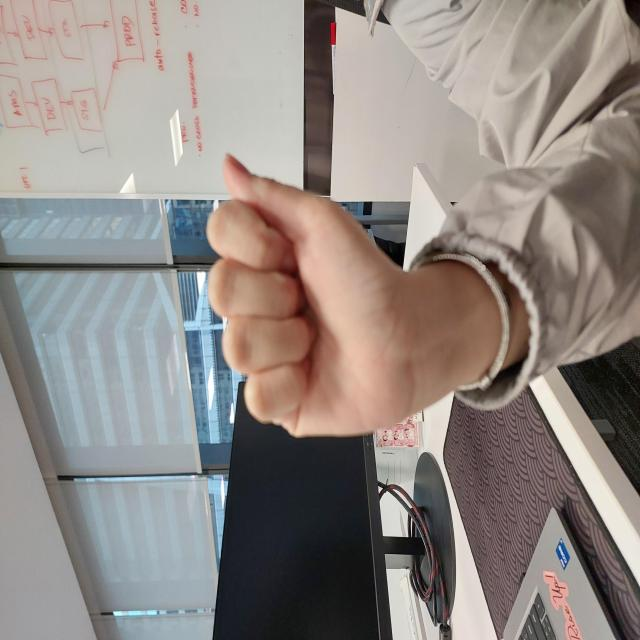A: (204, 207, 488, 406)
